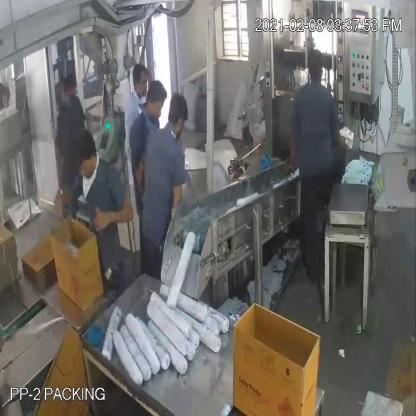no_glove: (89, 197, 138, 235), (54, 178, 88, 222)
